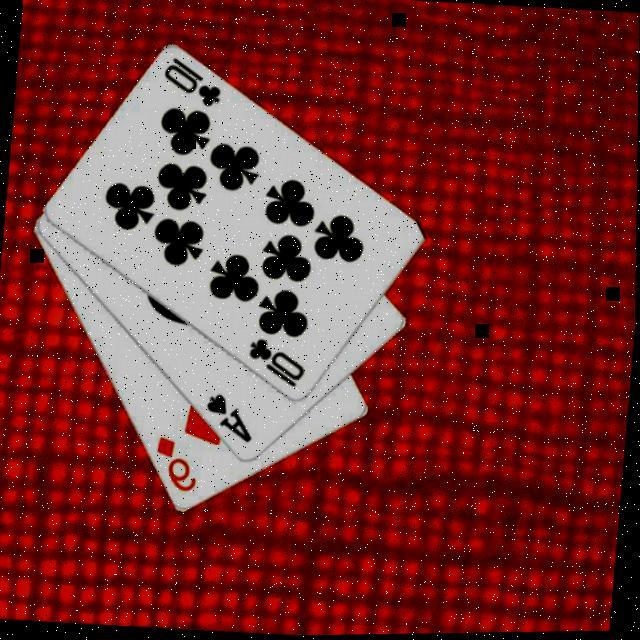10C: (155, 52, 224, 111), (241, 334, 310, 392)
6D: (149, 432, 202, 496)
AS: (199, 389, 258, 447)
